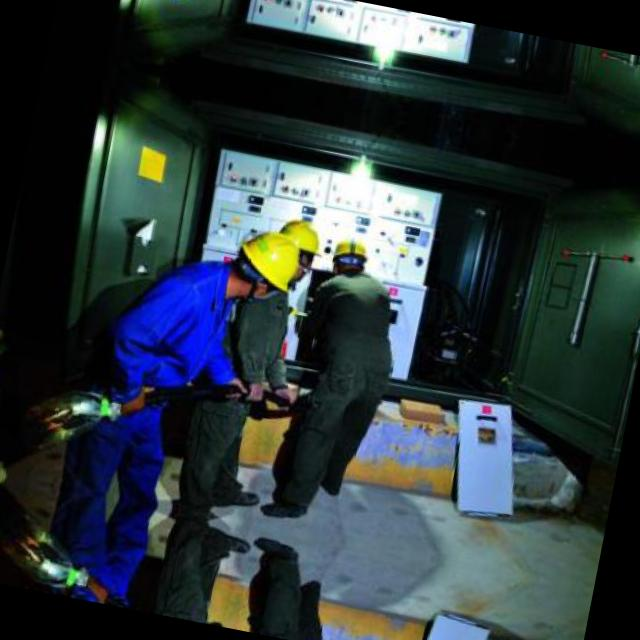helmet: (232, 225, 306, 297), (271, 214, 322, 281), (326, 232, 372, 276)
